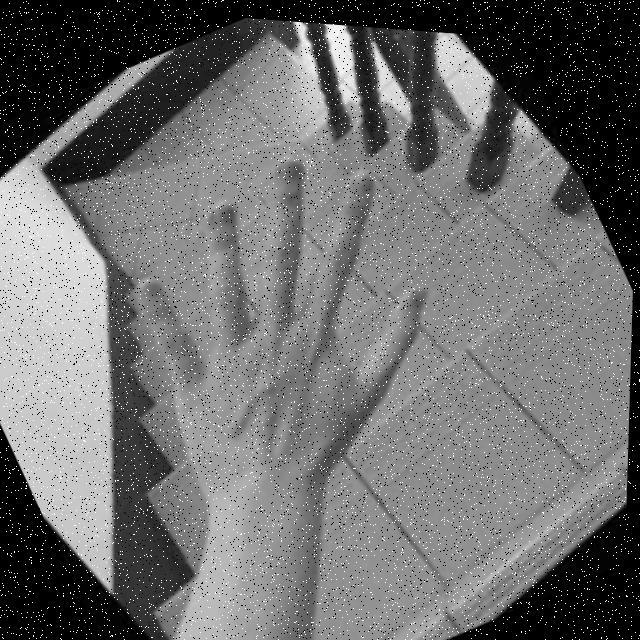no-gloves: (80, 102, 492, 532)
